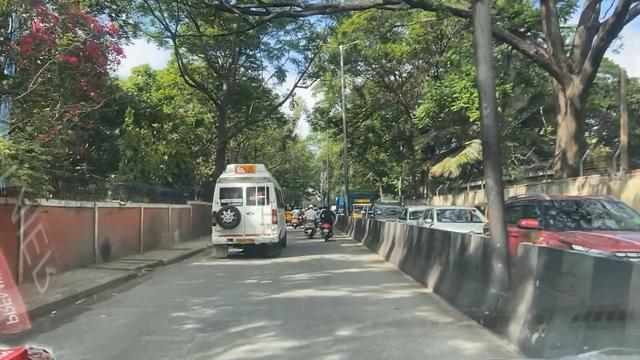HMV: (216, 163, 280, 255)
LMV: (320, 200, 339, 247)
